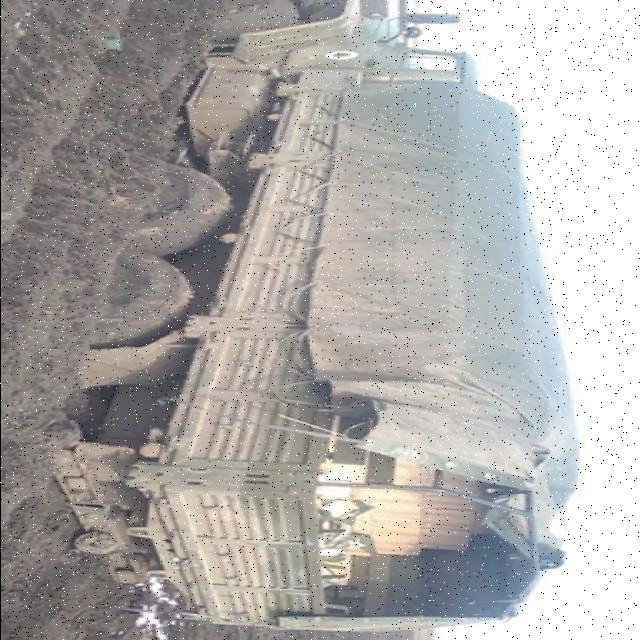TRUCK: (25, 0, 591, 631)
